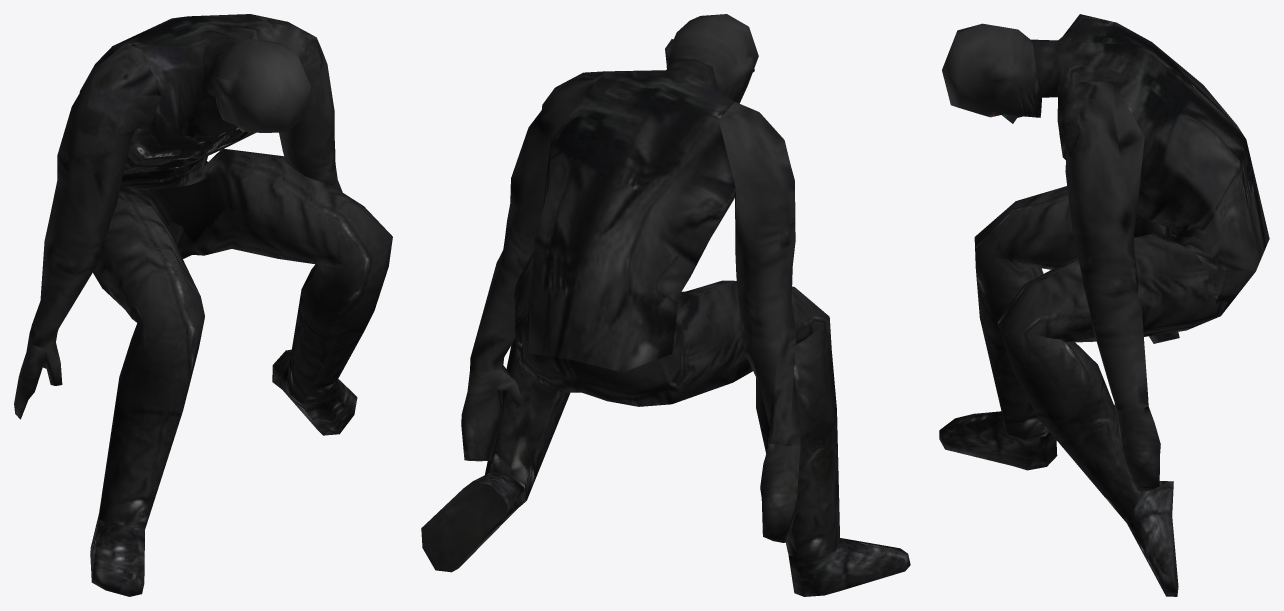
The model's file is character_21_5.fbx.
3 views of the same model, side by side, from view 1: azimuth 30°, elevation 25°; view 2: azimuth 150°, elevation 25°; view 3: azimuth 270°, elevation 25° (orthographic). The views are drawn at different scales.
Parts seen in each view (by area): view 1: Character_21_Police; view 2: Character_21_Police; view 3: Character_21_Police.
Part boxes in pixels (x1,y1,x2,y2): Character_21_Police: (14, 14, 392, 596); Character_21_Police: (421, 14, 910, 596); Character_21_Police: (939, 14, 1269, 596).
Bounding box in the file's own units: 214 × 285 × 172.
